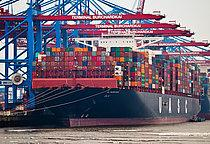Ship: (28, 37, 206, 132)
